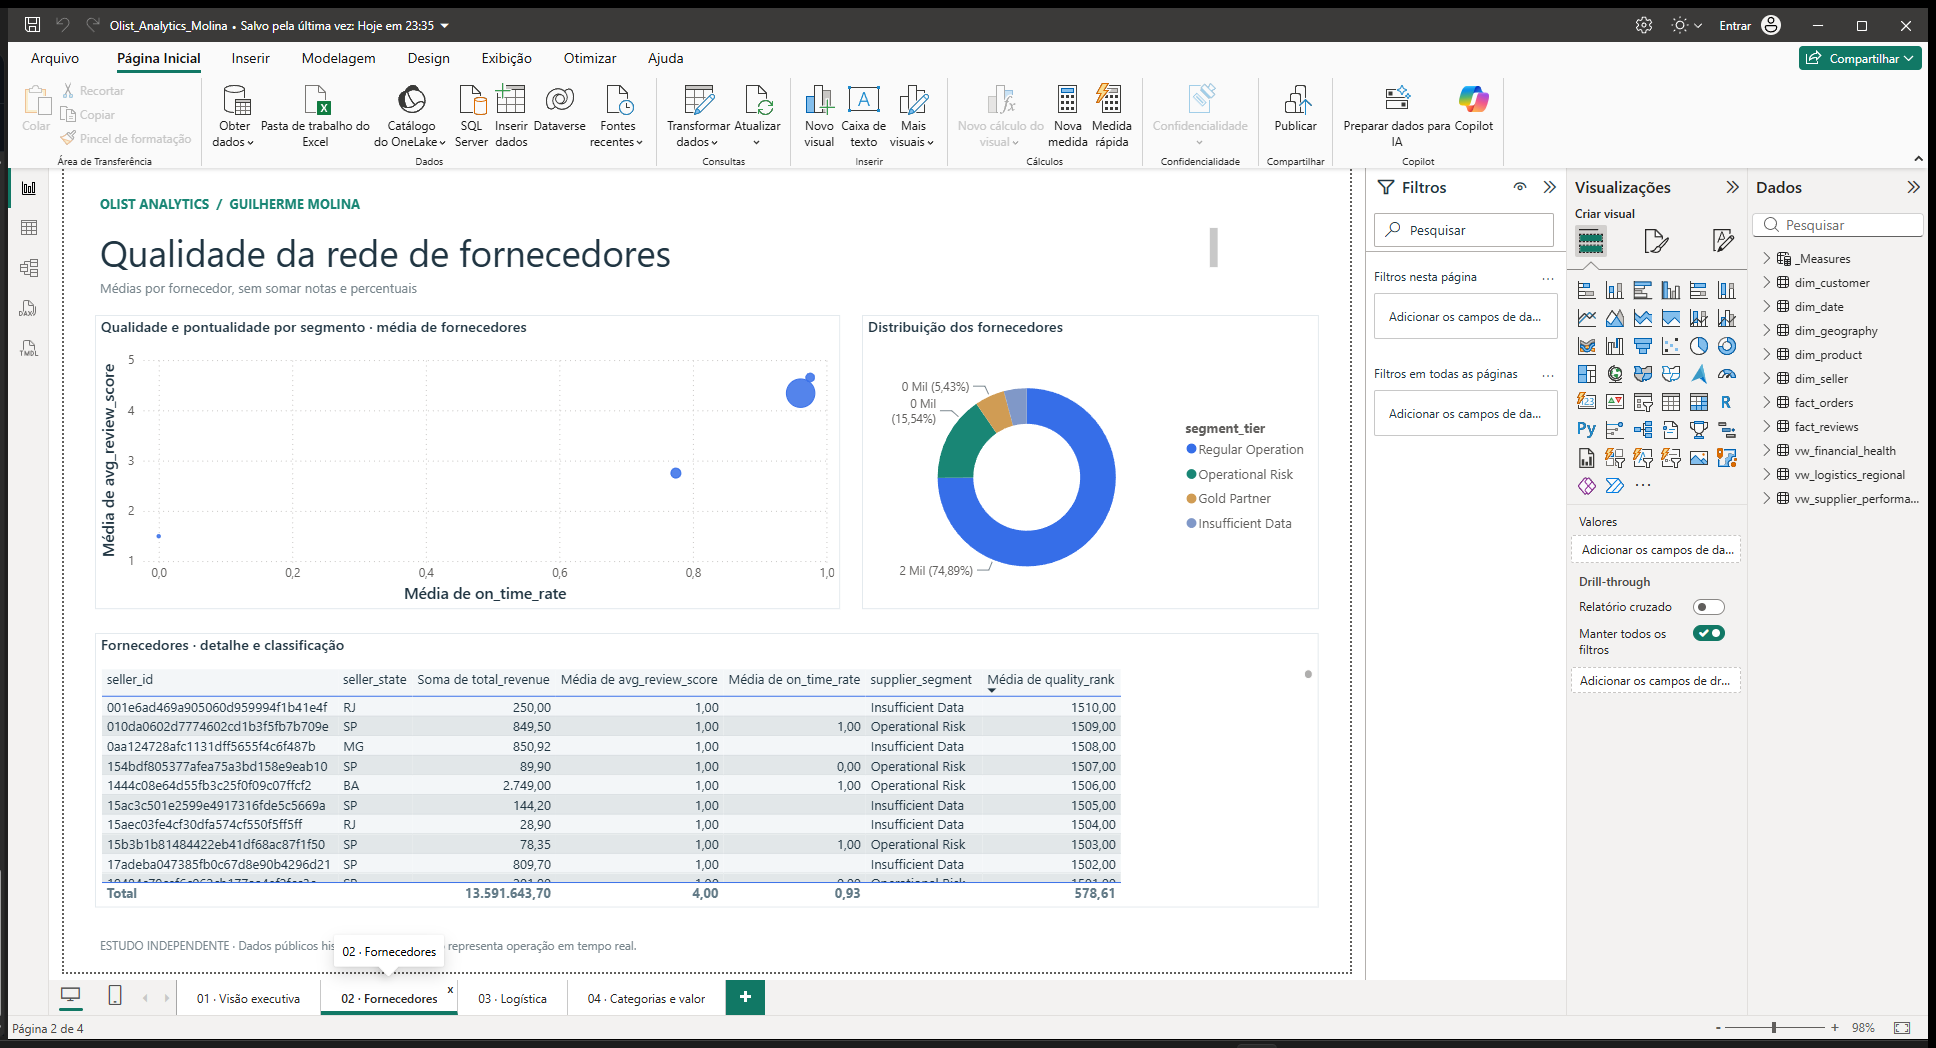

What the dashboard file says about the page in this screenshot:
{"tool":"powerbi","page":{"name":"02 · Fornecedores","canvas":[1312,820],"ordinal":1},"visuals":[{"type":"scatterChart","title":"Qualidade e pontualidade por segmento · média de fornecedores","fields":{"Category":["vw_supplier_performance.supplier_segment"],"Size":["Sum(vw_supplier_performance.total_revenue)"],"X":["Avg(vw_supplier_performance.on_time_rate)"],"Y":["Avg(vw_supplier_performance.avg_review_score)"]},"box":[32,150,760,300],"z":0},{"type":"donutChart","title":"Distribuição dos fornecedores","fields":{"Category":["dim_seller.segment_tier"],"Y":["_Measures.Total Sellers"]},"box":[814,150,466,300],"z":1000},{"type":"tableEx","title":"Fornecedores · detalhe e classificação","fields":{"Values":["vw_supplier_performance.seller_id","vw_supplier_performance.seller_state","Sum(vw_supplier_performance.total_revenue)","Avg(vw_supplier_performance.avg_review_score)","Avg(vw_supplier_performance.on_time_rate)","vw_supplier_performance.supplier_segment","Avg(vw_supplier_performance.quality_rank)"]},"box":[32,474,1248,280],"z":2000},{"type":"textbox","box":[32,22,1120,31],"z":3000},{"type":"textbox","box":[32,56,1150,54],"z":4000},{"type":"textbox","box":[32,108,1200,34],"z":5000},{"type":"textbox","box":[32,778,1220,31],"z":6000}]}

Visuals, with their boxes on the page's 1312x820 design canvas (x1, y1, x2, y2). These are canvas units, not pixel positions in the 1936x1048 screenshot, which may show the page scaled, cropped or inside an application window:
"Qualidade e pontualidade por segmento · média de fornecedores" scatterChart: <box>32,150,792,450</box>
"Distribuição dos fornecedores" donutChart: <box>814,150,1280,450</box>
"Fornecedores · detalhe e classificação" tableEx: <box>32,474,1280,754</box>
textbox: <box>32,22,1152,53</box>
textbox: <box>32,56,1182,110</box>
textbox: <box>32,108,1232,142</box>
textbox: <box>32,778,1252,809</box>
